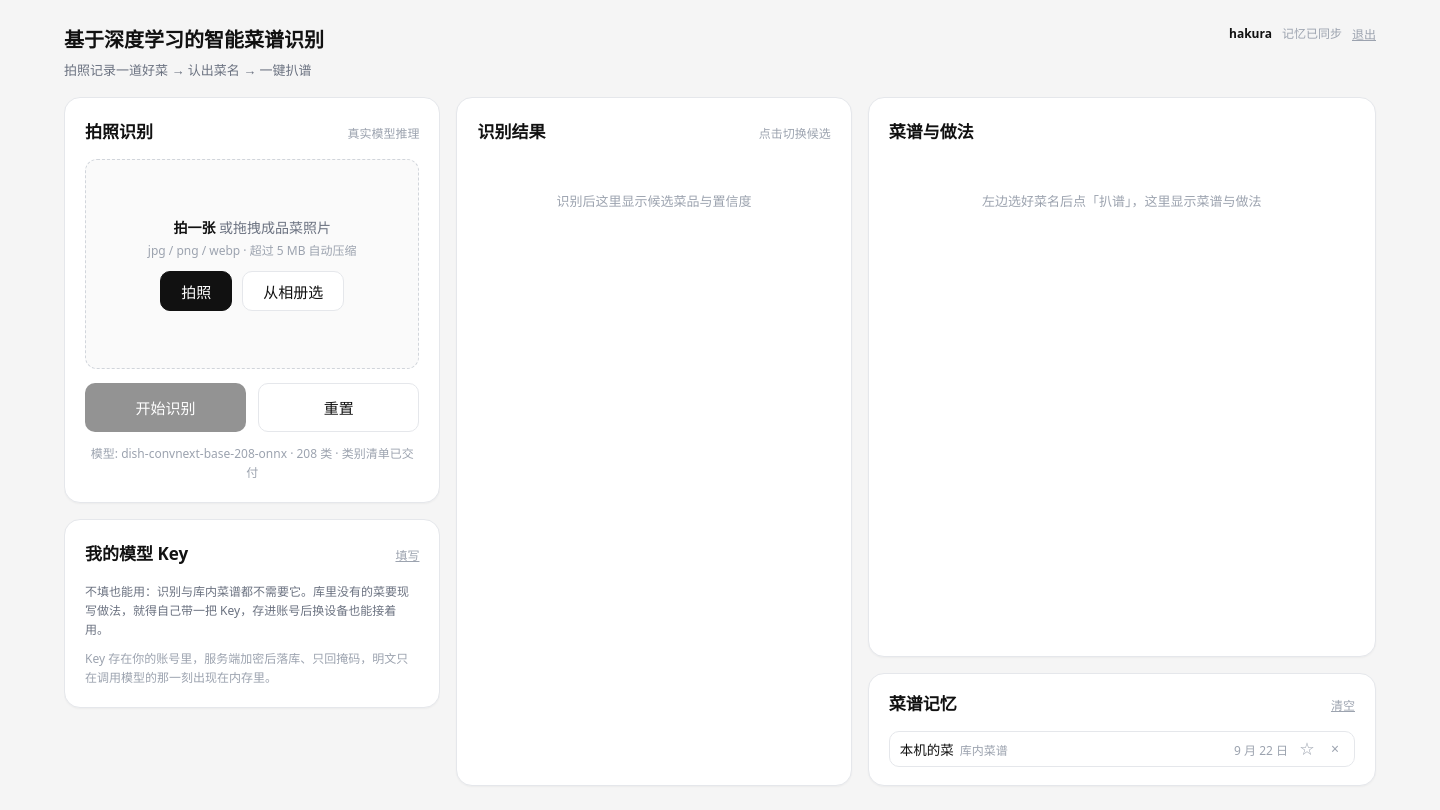
Scenario: RecipeRecommendPage 账号 › 退出后回到登录入口，本机记忆留着
Step 1. Click the button "退出" → (1364,34), box 1352,25 -> 1376,43
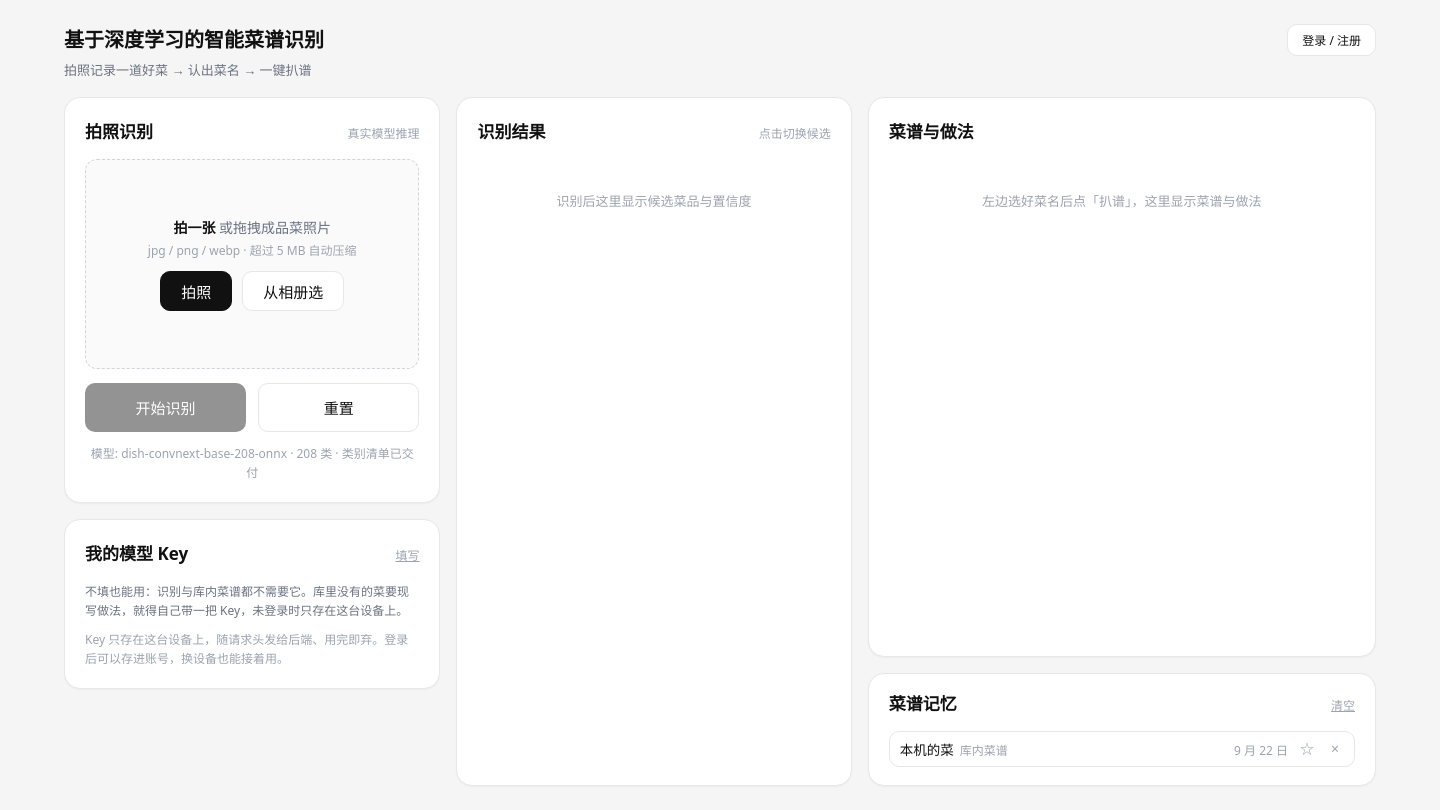
Expected: the button with aria-label "复用 本机的菜" is shown, 890,732 -> 1292,766
Expected: the button "登录 / 注册" is shown, 1287,24 -> 1376,56
